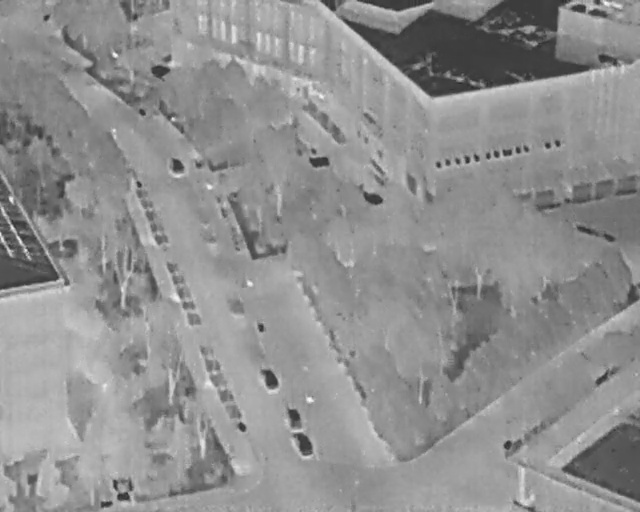Car: (292, 429, 315, 457), (259, 364, 280, 392), (286, 405, 304, 432), (169, 155, 186, 176)
